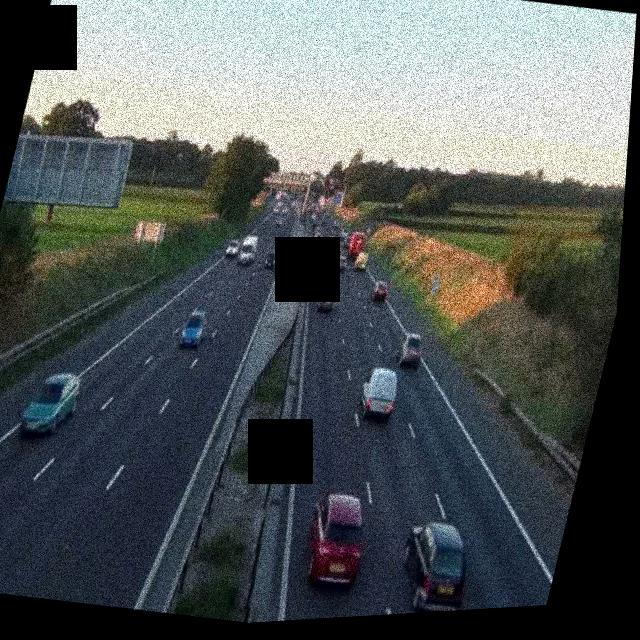car: (389, 514, 481, 614), (295, 488, 376, 591), (18, 367, 85, 443), (355, 363, 402, 423), (177, 307, 210, 350), (394, 331, 426, 369), (316, 286, 338, 313), (369, 279, 391, 303), (262, 246, 279, 269), (224, 237, 242, 258), (354, 250, 370, 273), (332, 253, 348, 272), (313, 241, 326, 258), (274, 214, 287, 228), (310, 219, 320, 232)
truck: (345, 231, 365, 261)
